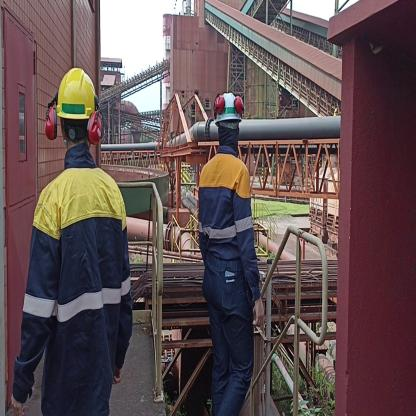Balaclava: (216, 118, 242, 152)
C_eletrica: (24, 176, 134, 404)
Capacete: (52, 64, 98, 122), (212, 90, 240, 119)
Operacional: (198, 154, 260, 298)
